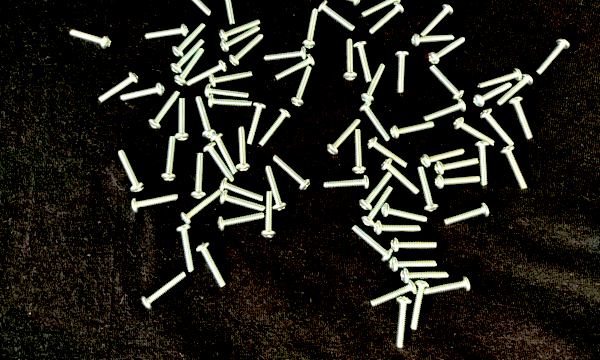longscrew: (142, 274, 187, 308), (196, 245, 232, 287), (498, 145, 532, 188), (273, 153, 310, 190), (100, 70, 139, 105), (353, 226, 389, 262), (370, 137, 410, 169), (427, 64, 464, 98), (357, 105, 391, 142), (371, 282, 418, 308), (259, 110, 292, 147), (362, 188, 395, 225), (184, 191, 224, 221), (536, 42, 571, 76), (383, 159, 418, 193), (151, 92, 183, 129), (327, 122, 364, 154), (188, 60, 226, 91), (425, 273, 474, 297), (117, 152, 146, 192), (501, 73, 535, 107), (481, 108, 513, 144), (430, 34, 468, 64), (455, 118, 497, 145), (263, 166, 287, 212), (508, 99, 537, 136), (360, 66, 388, 104), (421, 4, 454, 36), (417, 166, 439, 214), (172, 39, 203, 73), (205, 144, 232, 183), (370, 3, 405, 33), (363, 174, 394, 207), (176, 49, 203, 86), (174, 23, 206, 54), (232, 32, 262, 65), (409, 283, 430, 330), (69, 28, 111, 51), (146, 21, 188, 44), (131, 191, 177, 212), (223, 24, 260, 50), (290, 65, 314, 105), (244, 104, 268, 144), (422, 145, 464, 167), (424, 101, 466, 123), (221, 180, 265, 201), (443, 205, 489, 225), (214, 135, 238, 173), (320, 2, 355, 28), (475, 81, 511, 106), (220, 193, 265, 213), (221, 16, 260, 39), (195, 97, 216, 139), (392, 116, 436, 136), (277, 55, 313, 79), (479, 69, 521, 89), (260, 193, 278, 239), (121, 81, 164, 100), (159, 137, 178, 180), (178, 226, 195, 273), (232, 126, 249, 173), (301, 5, 319, 49), (174, 98, 192, 142), (219, 214, 265, 231), (207, 96, 253, 113), (209, 70, 255, 87), (356, 41, 374, 84), (348, 129, 366, 172), (190, 154, 208, 197), (205, 85, 250, 102), (381, 205, 427, 221), (398, 297, 411, 350), (265, 47, 309, 62), (322, 175, 369, 189), (436, 158, 479, 173), (362, 0, 401, 16), (175, 0, 211, 17), (396, 51, 409, 96), (436, 177, 482, 189), (393, 258, 435, 271), (343, 39, 355, 84), (413, 33, 456, 45), (218, 0, 236, 28), (388, 240, 438, 250), (373, 224, 423, 234), (404, 270, 453, 280), (479, 140, 489, 189), (320, 0, 361, 5)
